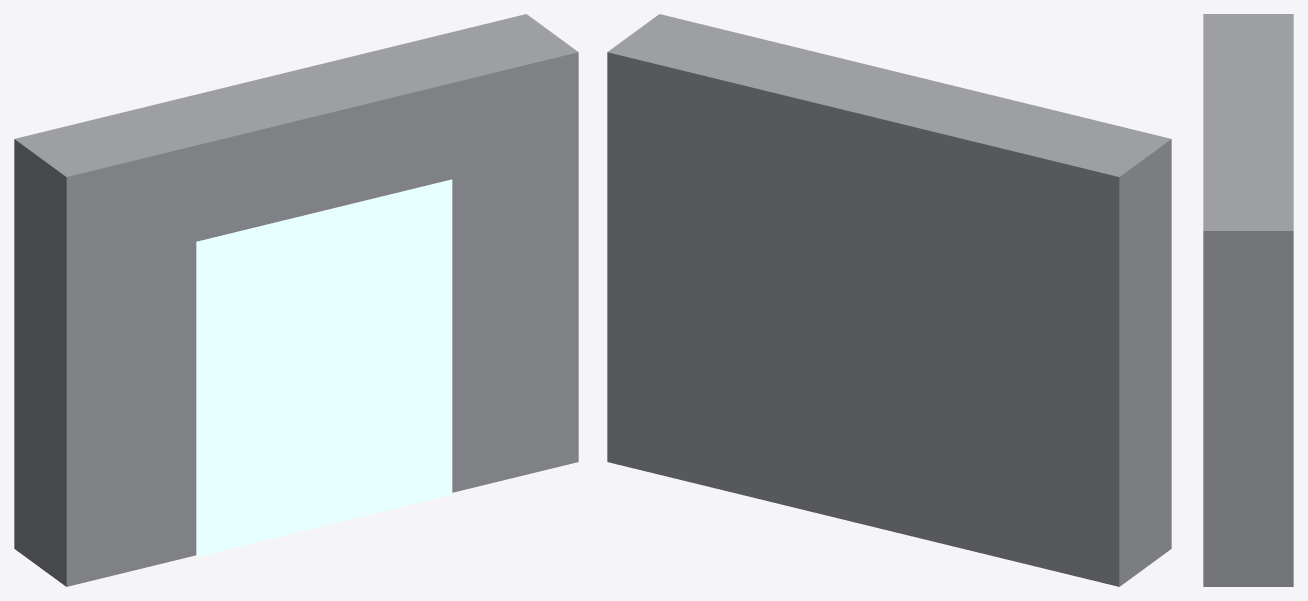
Rendered from cave-mouth-lit.gltf.
3 views of the same model, side by side, from view 1: azimuth 30°, elevation 25°; view 2: azimuth 150°, elevation 25°; view 3: azimuth 270°, elevation 25° (orthographic). The views are drawn at different scales.
Parts seen in each view (by area): view 1: Rock, Opening; view 2: Rock; view 3: Rock.
Part boxes in pixels (bbox=[...]): Rock: bbox=[14, 14, 578, 586]; Opening: bbox=[196, 179, 452, 556]; Rock: bbox=[607, 14, 1171, 586]; Rock: bbox=[1203, 14, 1293, 586].
Bounding box in the file's own units: 3.4 × 2.6 × 0.62.
